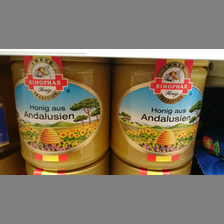honey: (8, 56, 111, 171), (112, 58, 210, 169)
